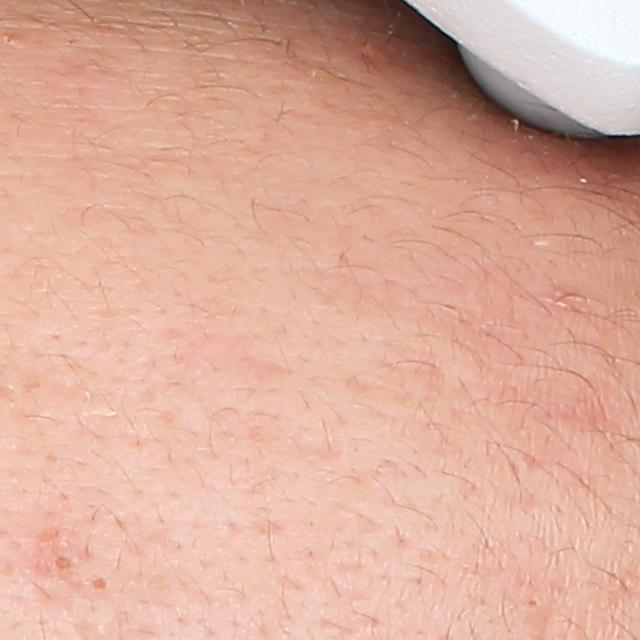comedo: (44, 550, 82, 584), (86, 570, 111, 596), (524, 594, 541, 610)
